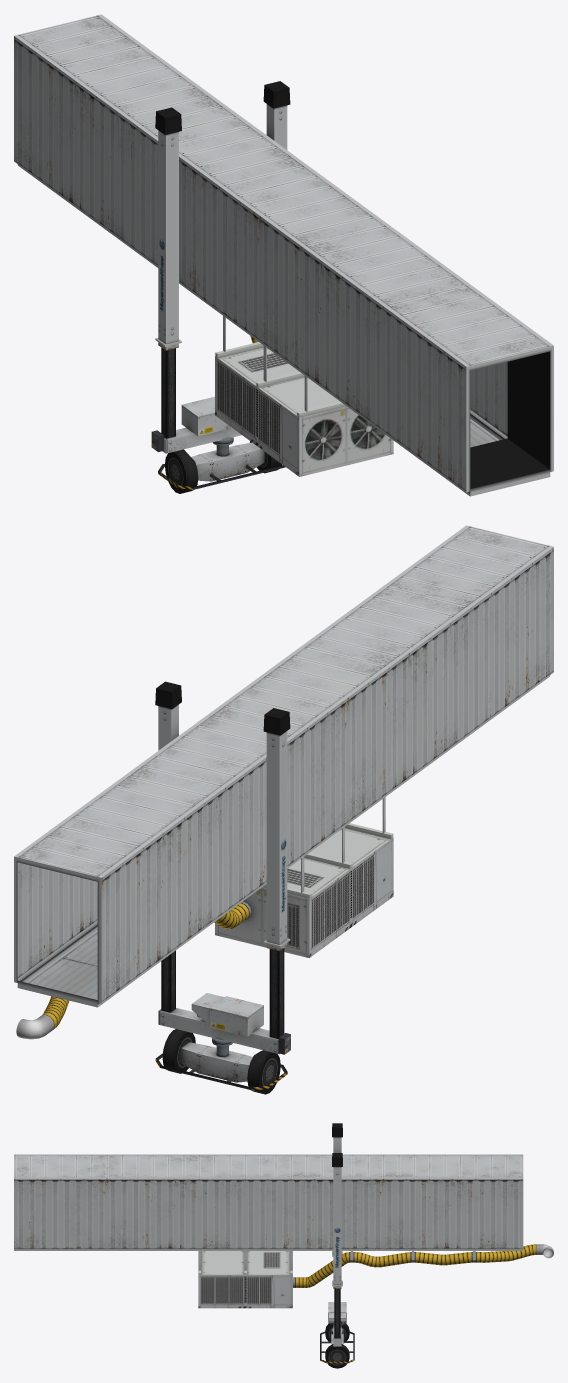
The model's file is jw_tunnel_2_11b.gltf.
The picture shows the model from 3 angles, top to bottom: view 1: azimuth 30°, elevation 25°; view 2: azimuth 150°, elevation 25°; view 3: azimuth 270°, elevation 25°; orthographic projection. The views are drawn at different scales.
Visible parts, largest first — view 1: jw_tunnel_2_11b; view 2: jw_tunnel_2_11b; view 3: jw_tunnel_2_11b.
Part boxes in pixels (box(x1,y1,x2,y2)): jw_tunnel_2_11b: box(14, 14, 553, 496); jw_tunnel_2_11b: box(14, 525, 553, 1094); jw_tunnel_2_11b: box(14, 1123, 553, 1368).
Bounding box in the file's own units: 2.74 × 7.74 × 17.64.
